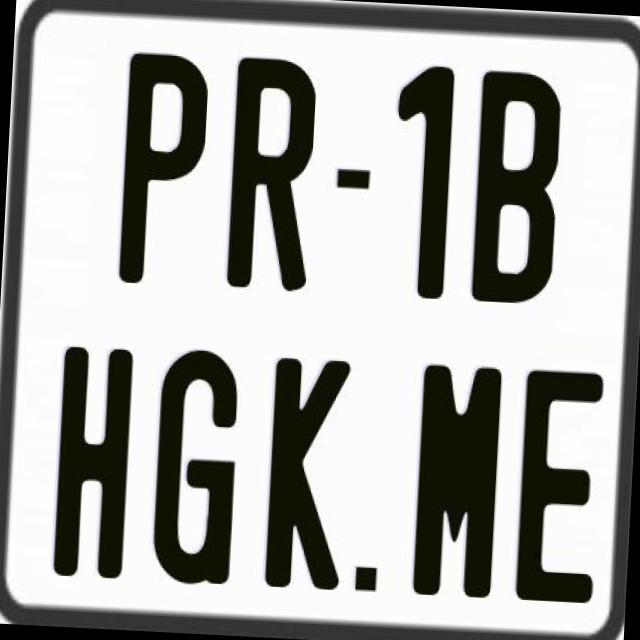1: (384, 61, 455, 296)
B: (472, 68, 566, 306)
E: (511, 364, 602, 600)
G: (150, 344, 244, 582)
H: (50, 342, 133, 584)
K: (262, 358, 350, 596)
M: (410, 360, 501, 596)
P: (115, 51, 208, 284)
R: (226, 56, 322, 294)
